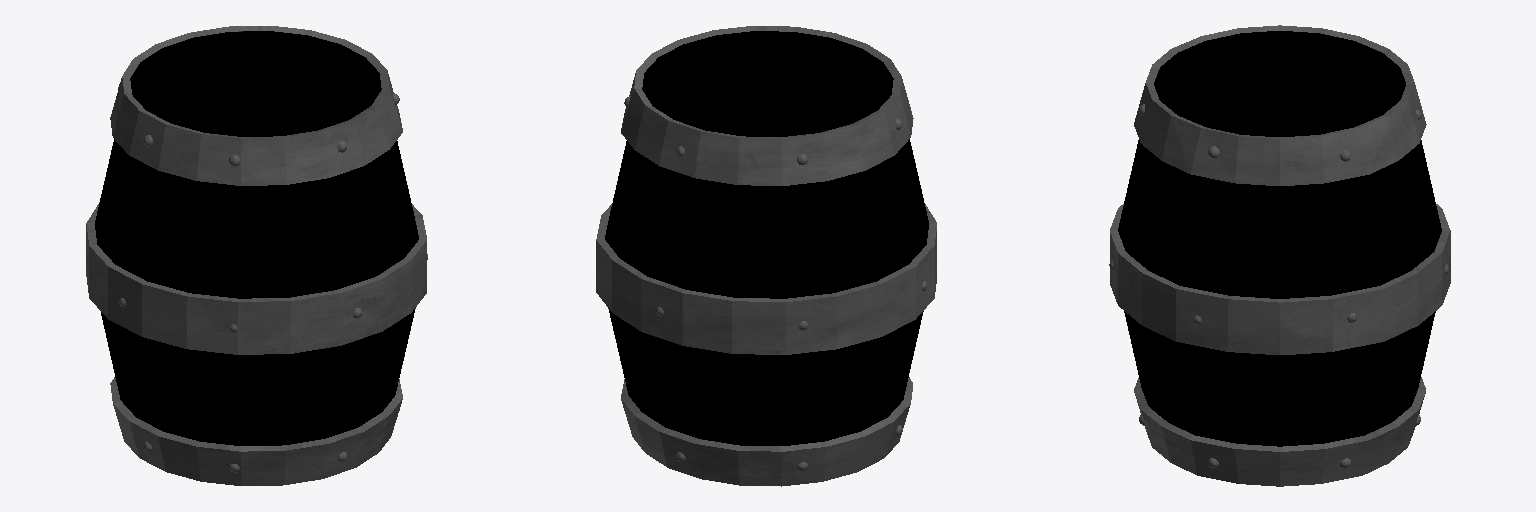
The picture shows the model from 3 angles: view 1: azimuth 30°, elevation 25°; view 2: azimuth 150°, elevation 25°; view 3: azimuth 270°, elevation 25°; orthographic projection.
Parts seen in each view (by area): view 1: pCylinder2; view 2: pCylinder2; view 3: pCylinder2.
Part boxes in pixels (x1,y1,x2,y2): pCylinder2: (86, 26, 427, 485); pCylinder2: (596, 26, 936, 486); pCylinder2: (1109, 25, 1450, 486).
Size of the model in its own units: 0.5583 by 0.6286 by 0.5588.
Materials: 21 (1 with a texture image).